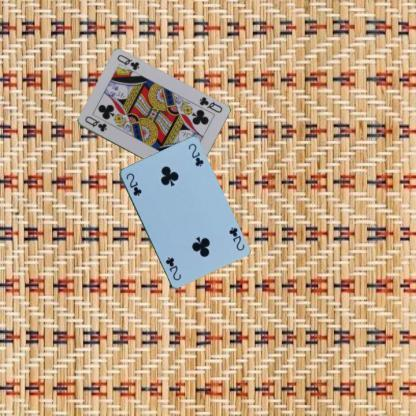2c: (226, 224, 246, 252), (123, 170, 143, 196)
Qc: (196, 94, 224, 115), (82, 113, 108, 134)
